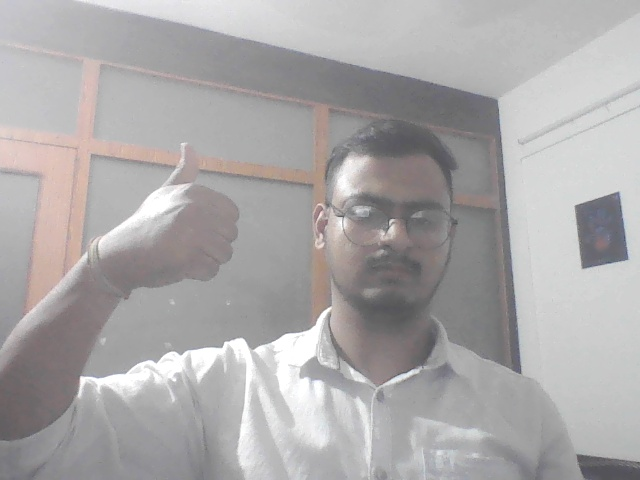Good: (103, 129, 253, 293)
